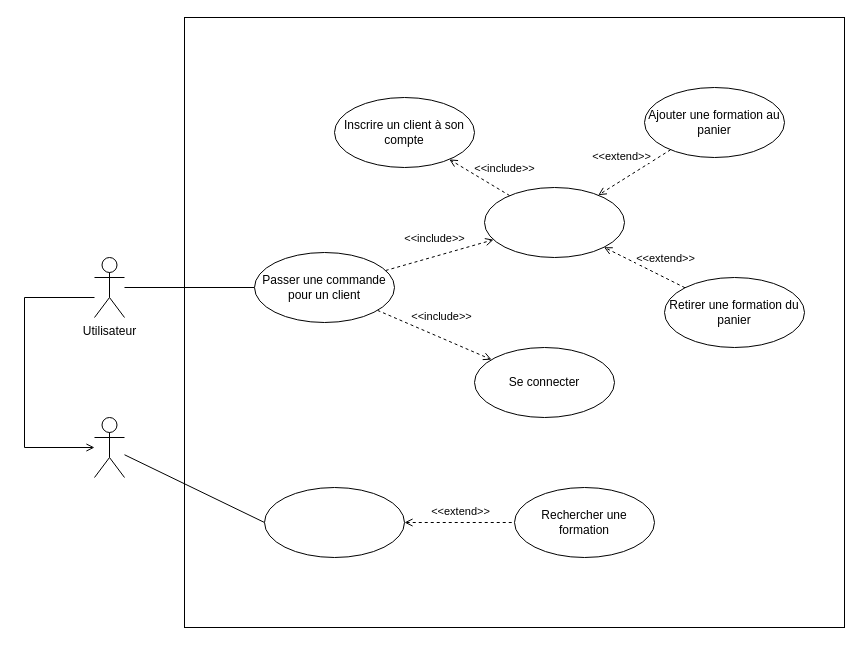
This 862x645 diagram has some shape labels left out. The shapes that lost their labels are listed below. From the top down, each one's centre as x and y in pixels, then its label:
At [554,222]: "Constituer un panier".
At [109,447]: "Visiteur".
At [334,522]: "Afficher les formations disponibles".
